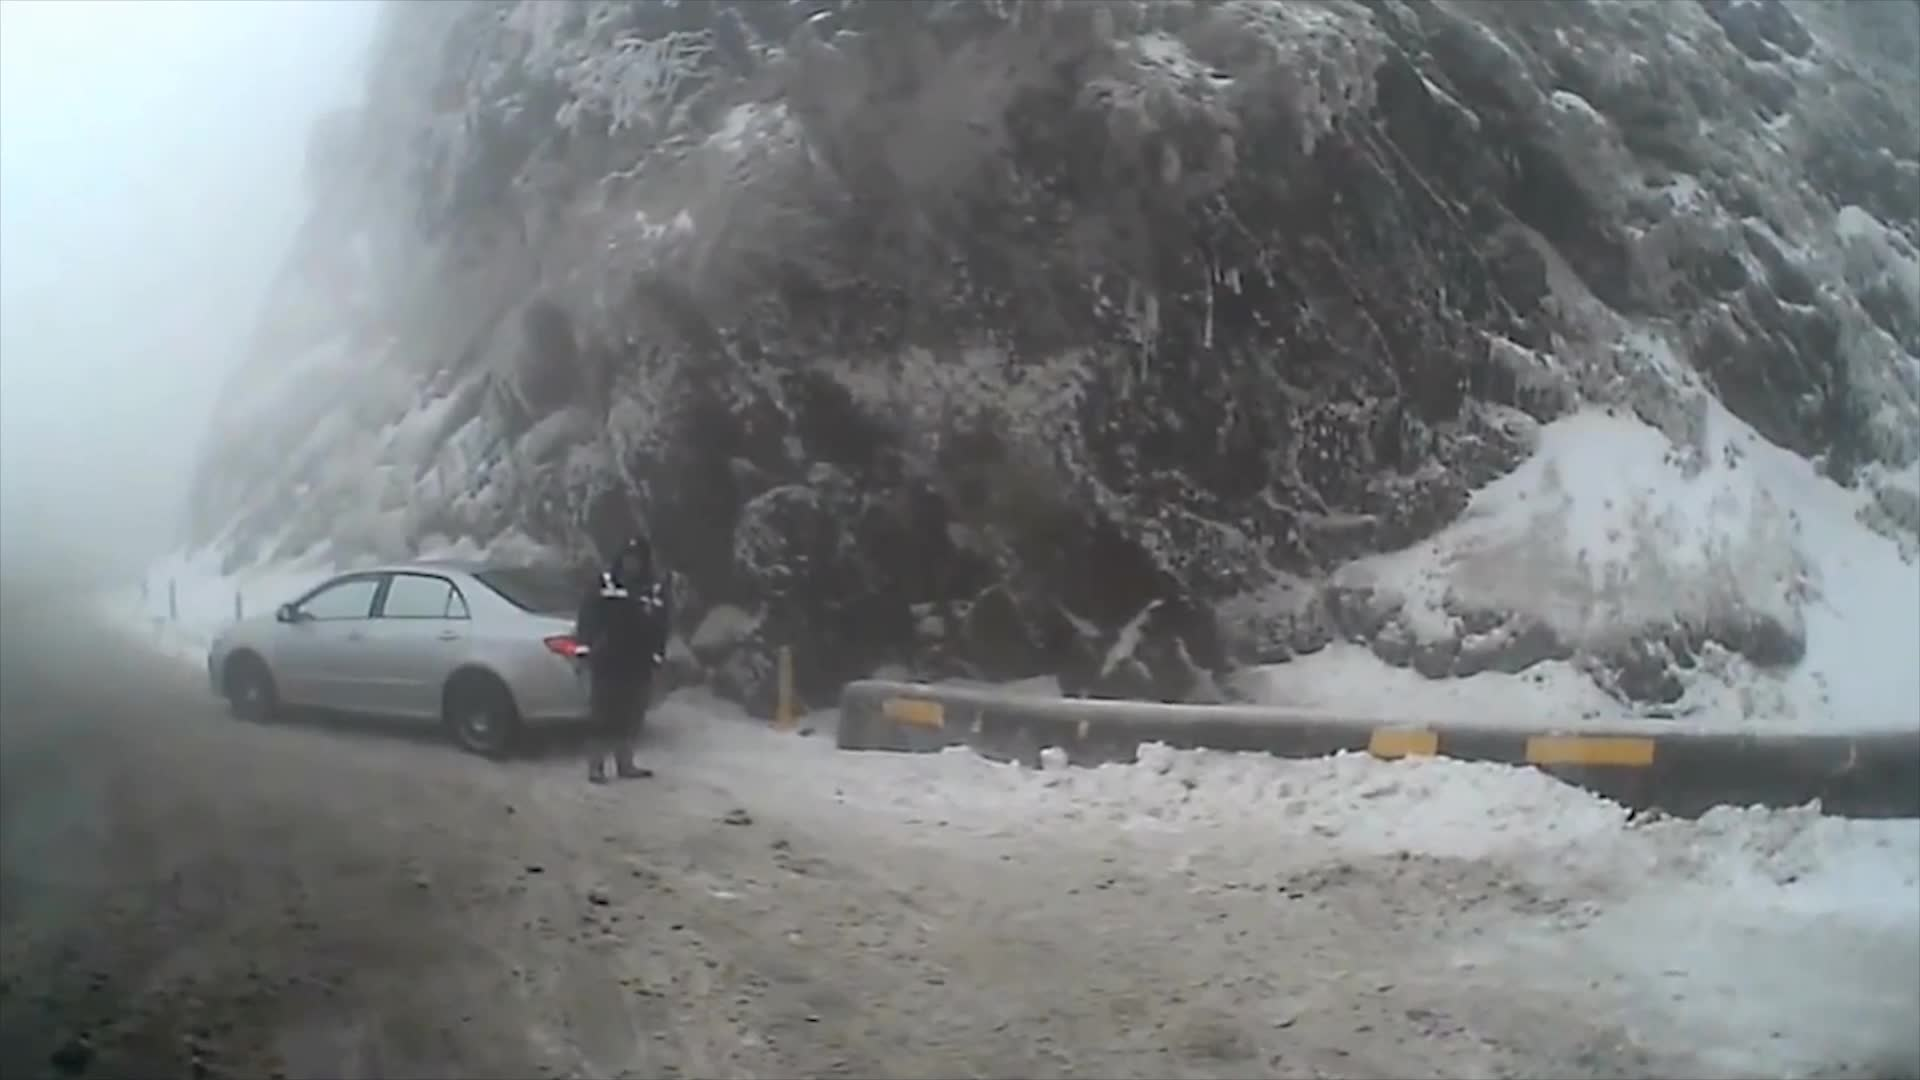pedestrian: (579, 533, 672, 783)
vehicle: (204, 553, 669, 757)
